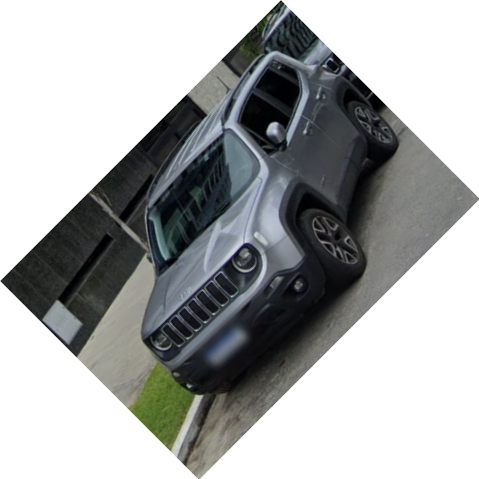car: (145, 48, 400, 395)
